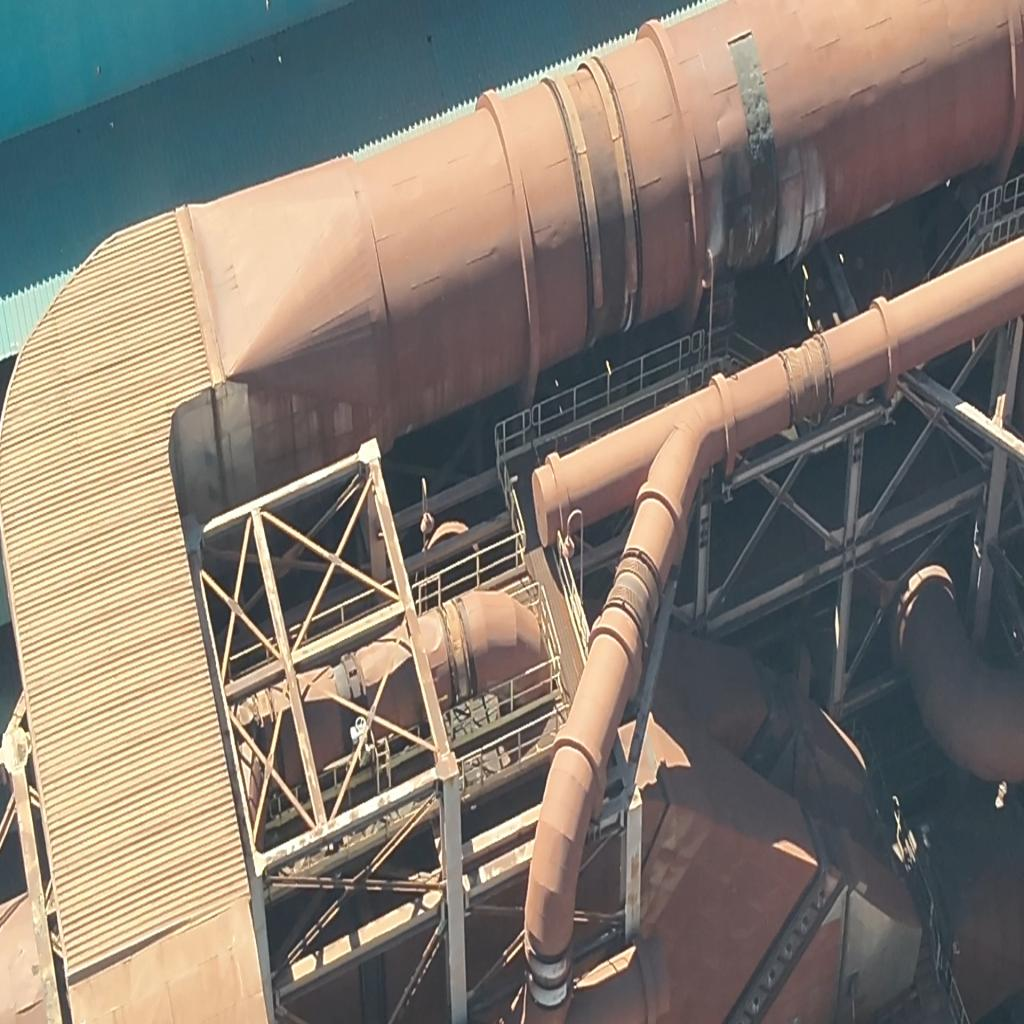Failures: (728, 32, 779, 266)
